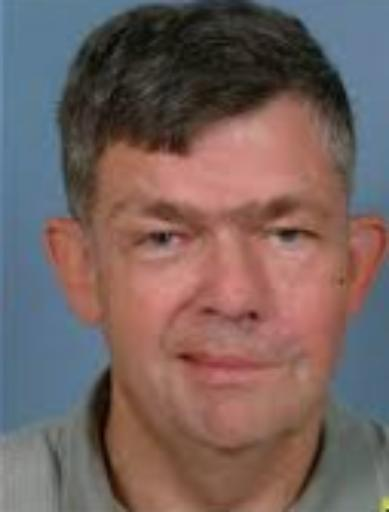left_eye: (255, 223, 318, 249)
left_lip_corner: (266, 356, 292, 378)
right_eye: (133, 226, 189, 252)
right_lip_corner: (168, 348, 195, 369)
